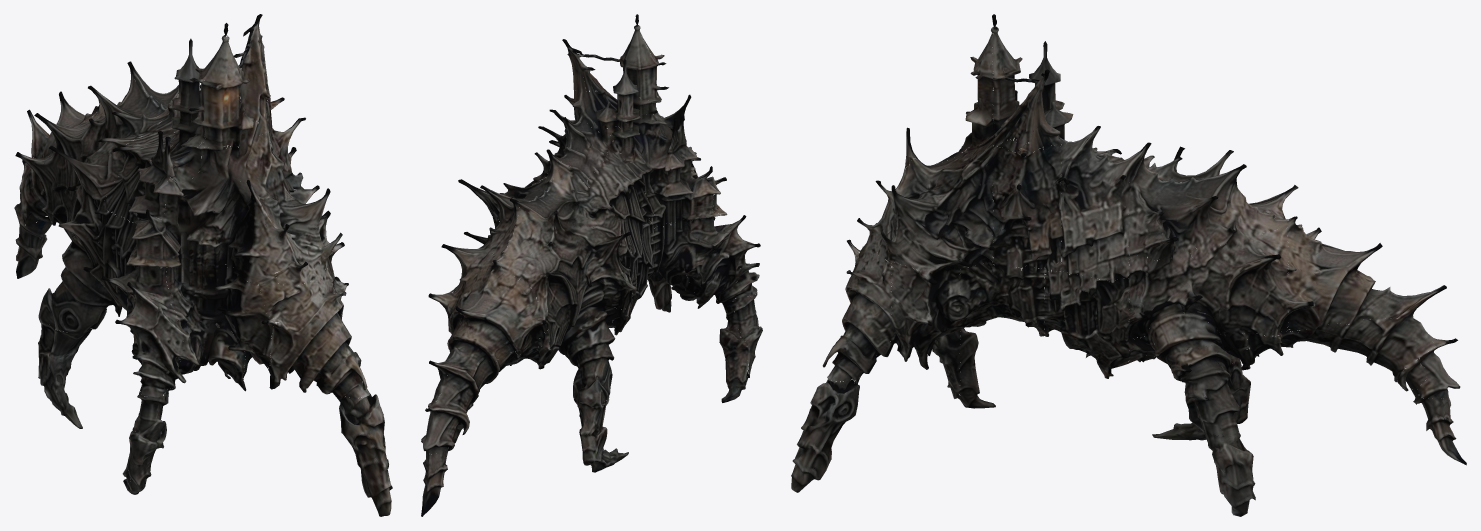
File: aegis_07_static.glb
3 views of the same model, side by side, from view 1: azimuth 30°, elevation 25°; view 2: azimuth 150°, elevation 25°; view 3: azimuth 270°, elevation 25° (orthographic). The views are drawn at different scales.
Visible parts, largest first — view 1: Boss_Mesh; view 2: Boss_Mesh; view 3: Boss_Mesh.
Boxes of the visible parts, bbox=[...] form: Boss_Mesh: bbox=[14, 14, 392, 516]; Boss_Mesh: bbox=[421, 14, 762, 516]; Boss_Mesh: bbox=[791, 14, 1466, 516].
Bounding box in the file's own units: 2.4 × 4 × 5.35.
1 material, 1 textured.
